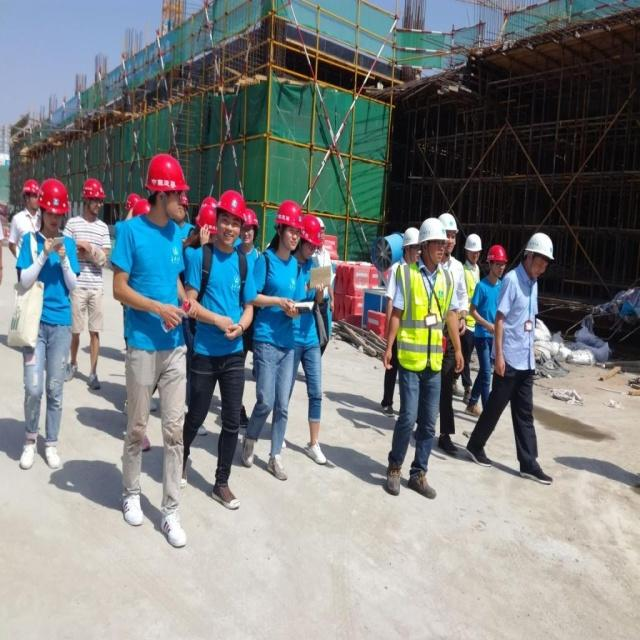helmet: (143, 207, 181, 290), (35, 235, 70, 309), (213, 252, 245, 331), (416, 288, 446, 353), (523, 311, 554, 373), (273, 266, 301, 334), (298, 286, 323, 346), (81, 236, 105, 287), (437, 280, 457, 340), (193, 272, 217, 320), (400, 301, 421, 351), (486, 323, 507, 372), (238, 280, 258, 329), (21, 238, 39, 282), (464, 311, 481, 352), (127, 257, 142, 287), (176, 259, 188, 296)
vest: (400, 344, 453, 505)
